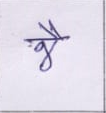ai_matra: (38, 20, 64, 37)
